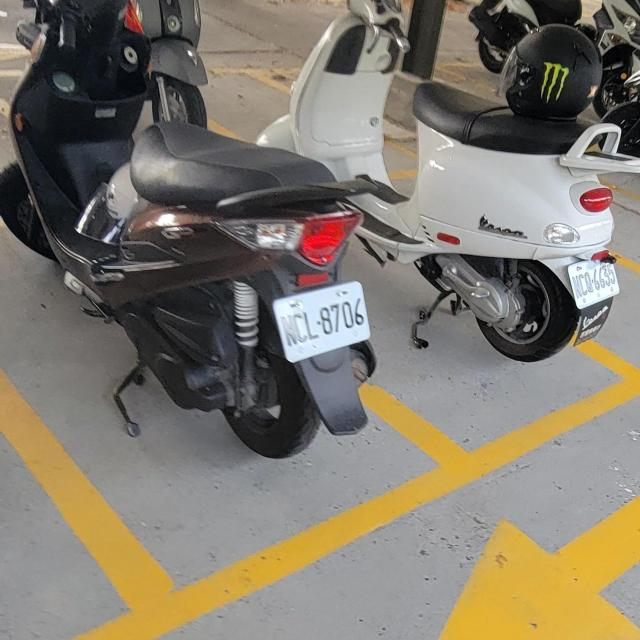W: (269, 278, 372, 363), (564, 251, 622, 310)
